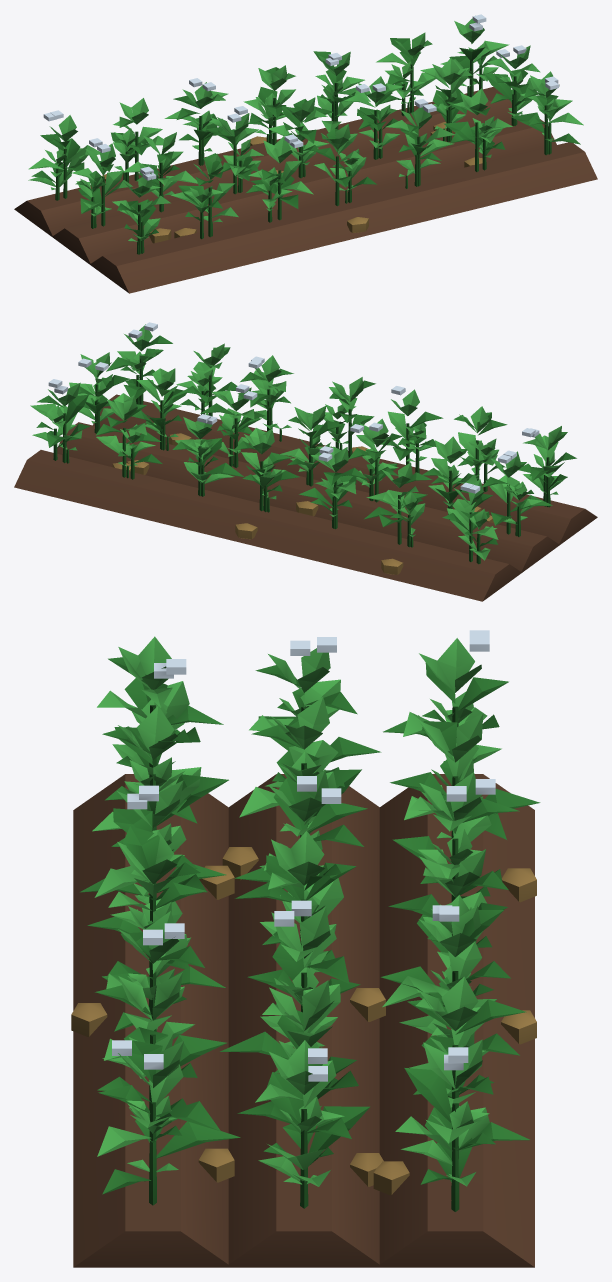
File: crop_potato.glb
The picture shows the model from 3 angles, top to bottom: view 1: azimuth 30°, elevation 25°; view 2: azimuth 150°, elevation 25°; view 3: azimuth 270°, elevation 25°; orthographic projection. The views are drawn at different scales.
Visible parts, largest first — view 1: Stage1, Stage3, Stage2; view 2: Stage1, Stage3, Stage2; view 3: Stage1, Stage3, Stage2.
Boxes of the visible parts, bbox=[...] form: Stage1: bbox=[14, 81, 597, 293]; Stage3: bbox=[28, 14, 583, 254]; Stage2: bbox=[28, 42, 580, 253]; Stage1: bbox=[14, 394, 597, 601]; Stage3: bbox=[30, 322, 576, 574]; Stage2: bbox=[32, 351, 567, 564]; Stage1: bbox=[73, 761, 534, 1267]; Stage3: bbox=[71, 630, 540, 1208]; Stage2: bbox=[97, 688, 501, 1211].
Size of the model in its own units: 2.77 by 0.5497 by 1.18.
